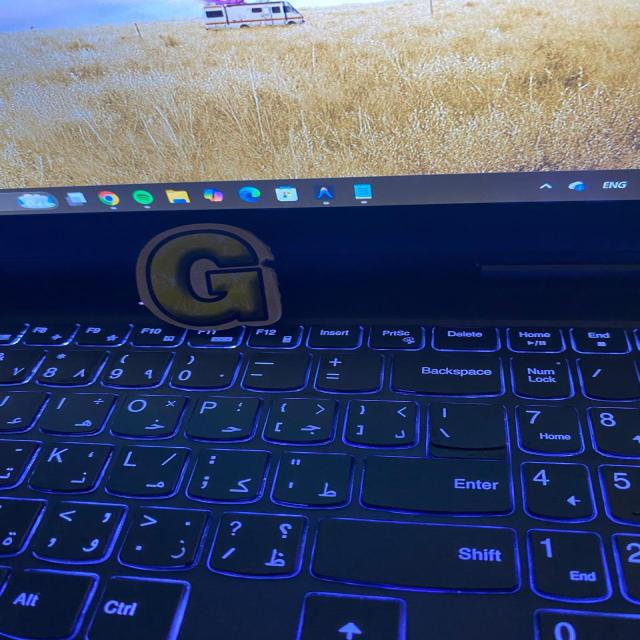G: (136, 224, 281, 329)
